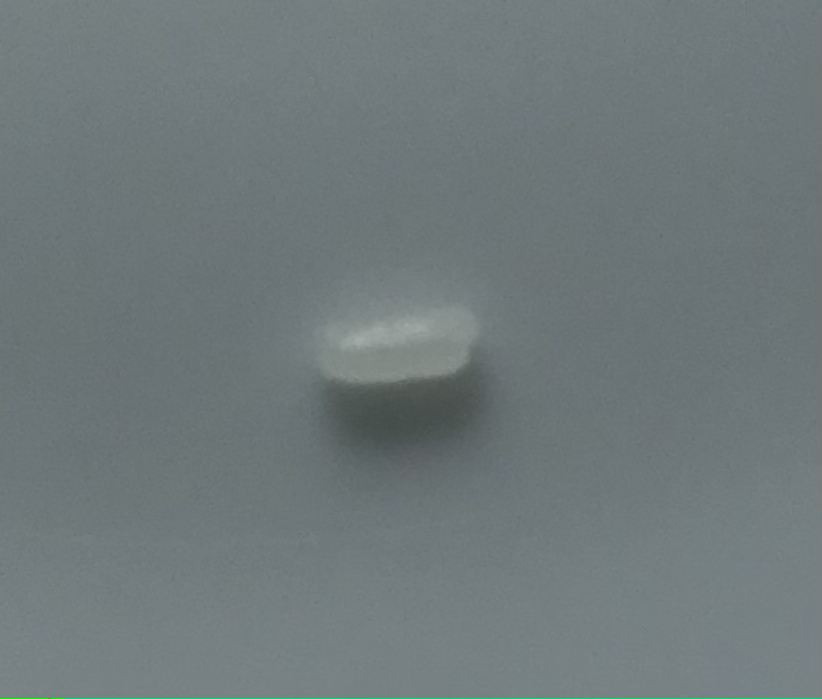Gao Tam: (312, 312, 485, 392)
